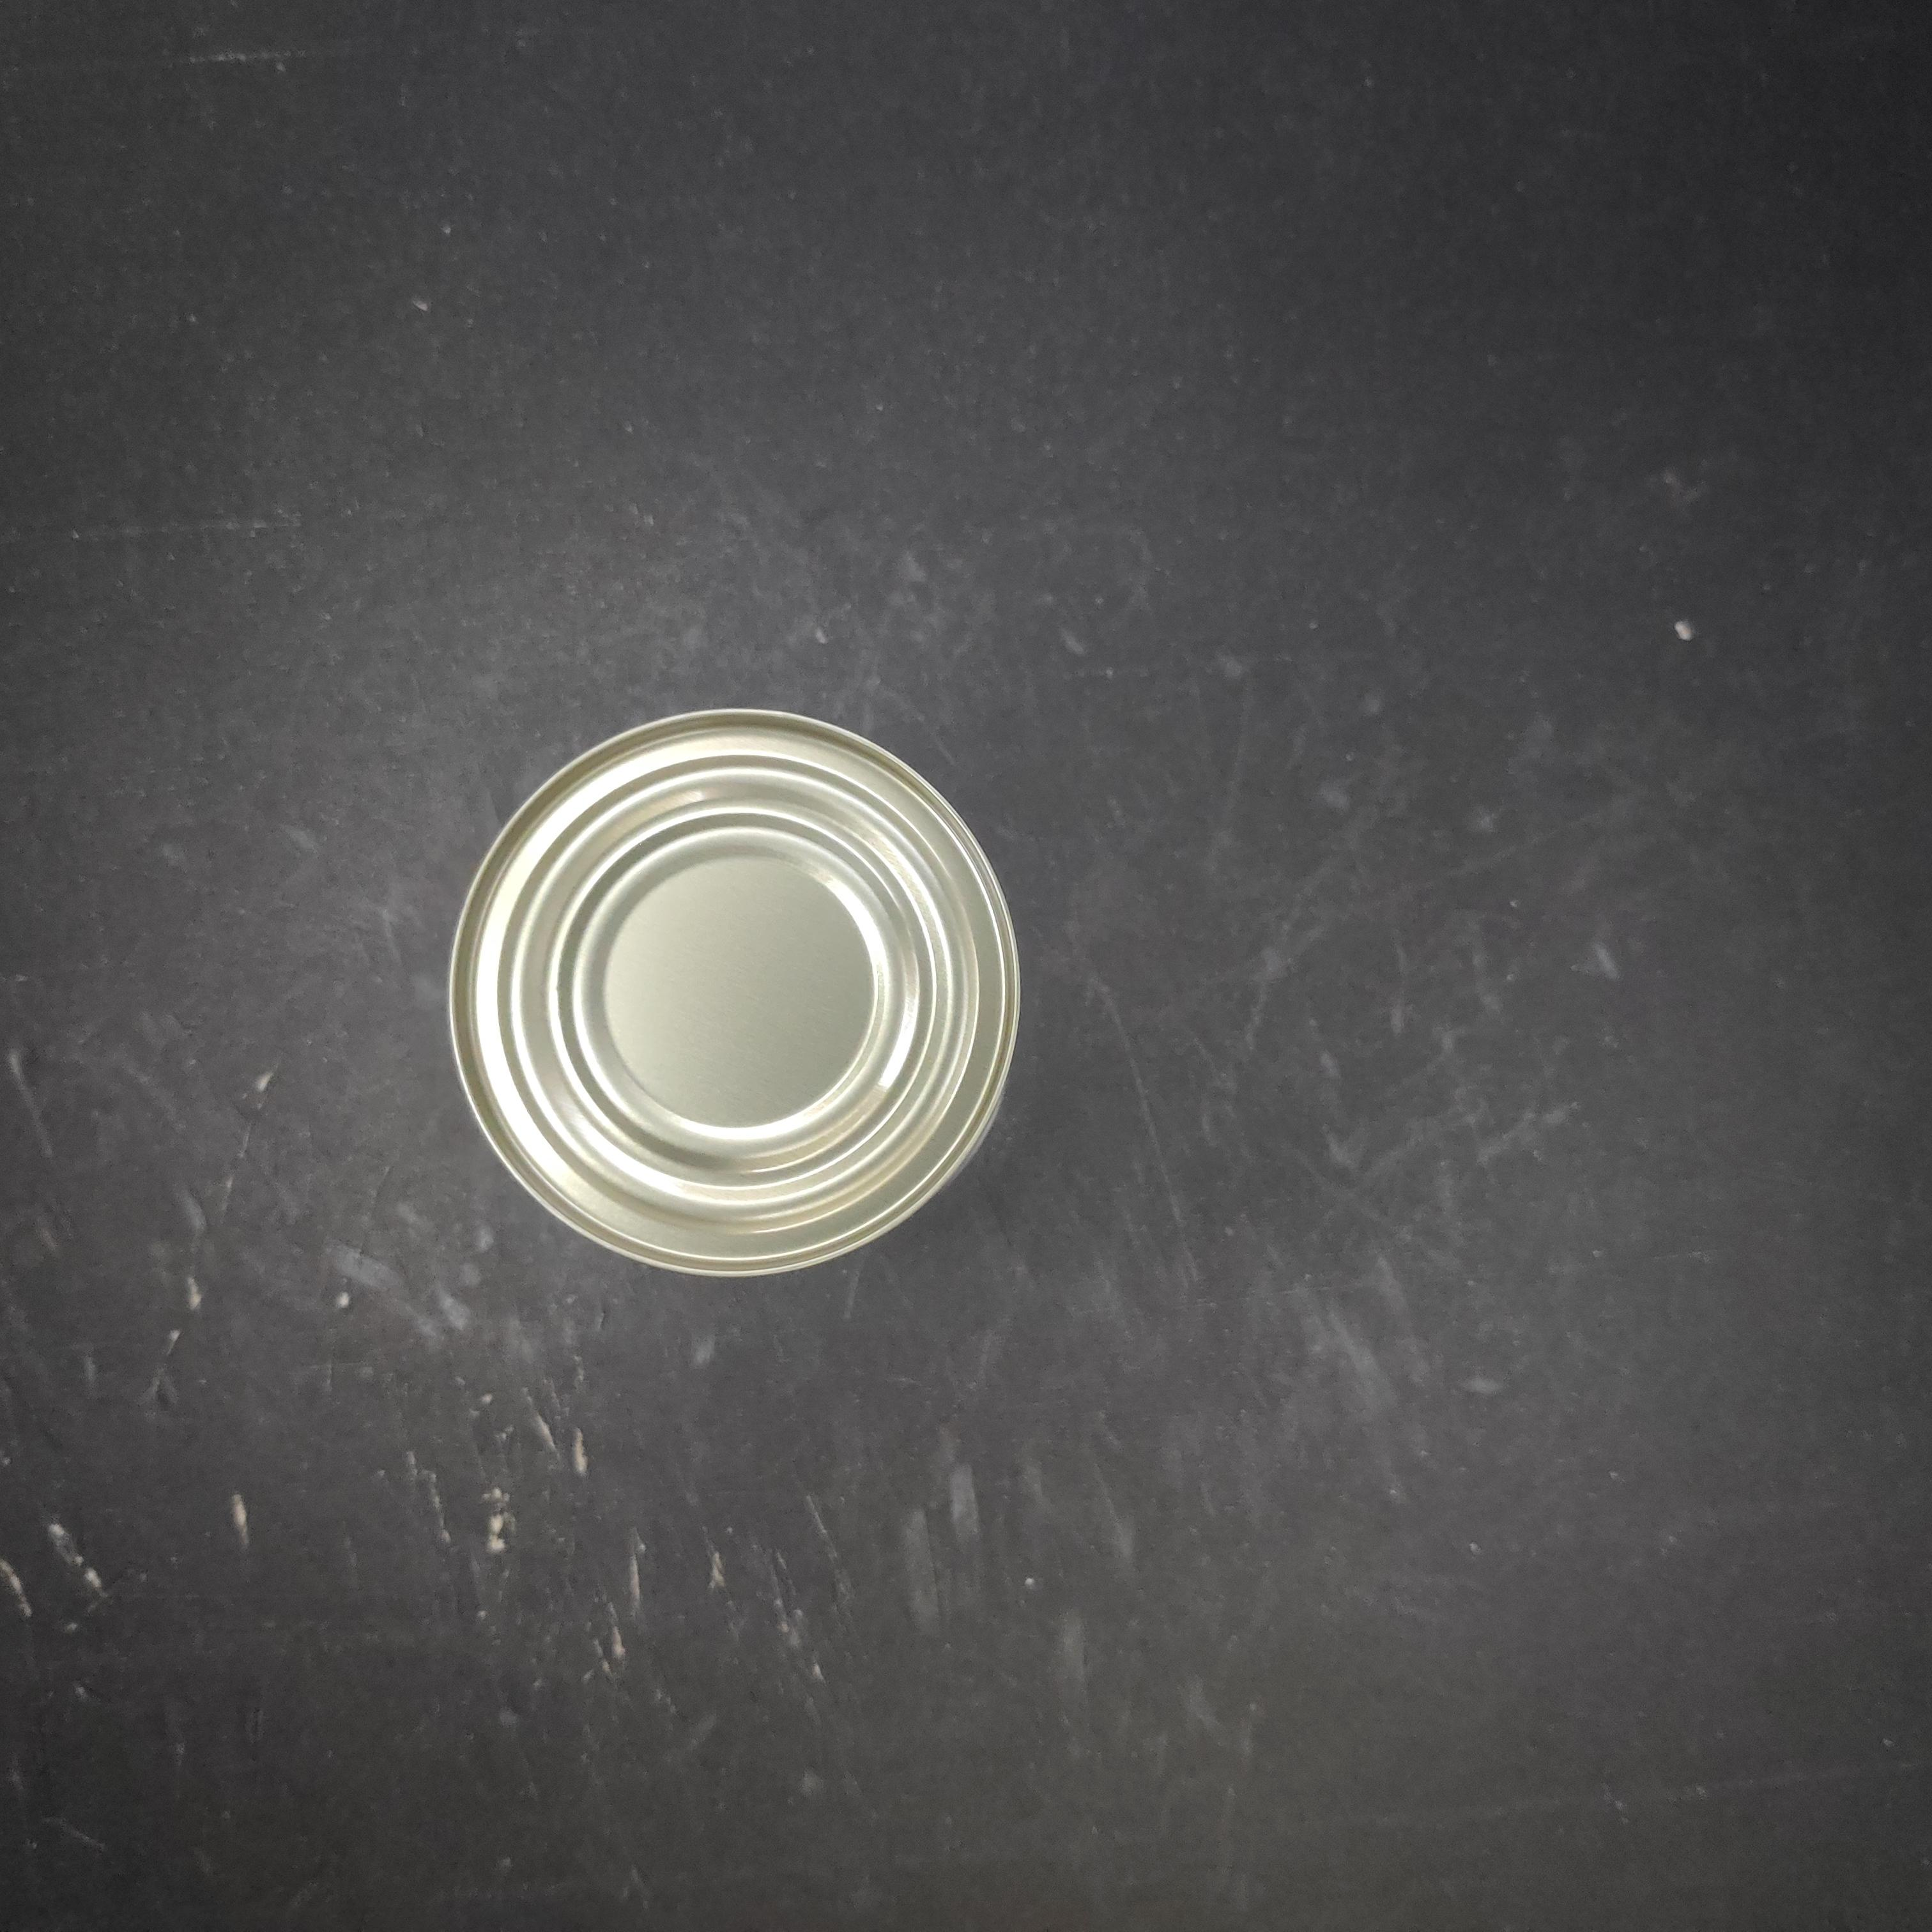No defect: (706, 908, 1279, 1488)
